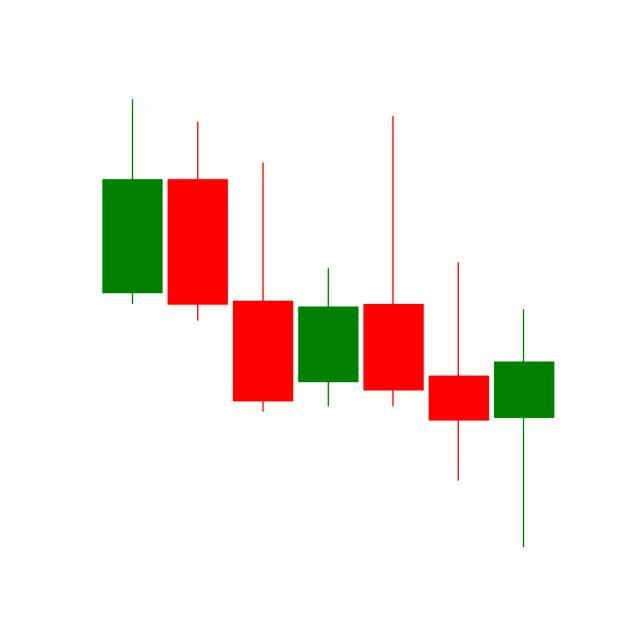Three Outside Up-Down: (295, 112, 492, 486)
